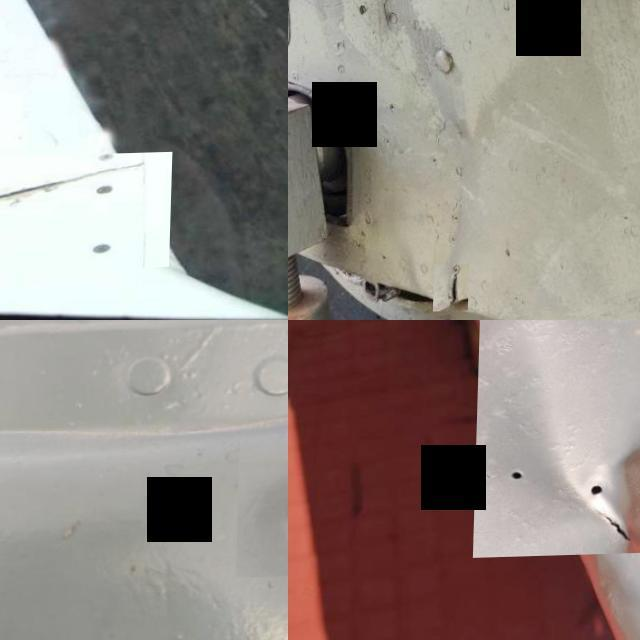Crack: (0, 154, 175, 279), (576, 498, 640, 561), (436, 266, 472, 314)
Dent: (475, 320, 640, 559), (238, 437, 288, 579)
